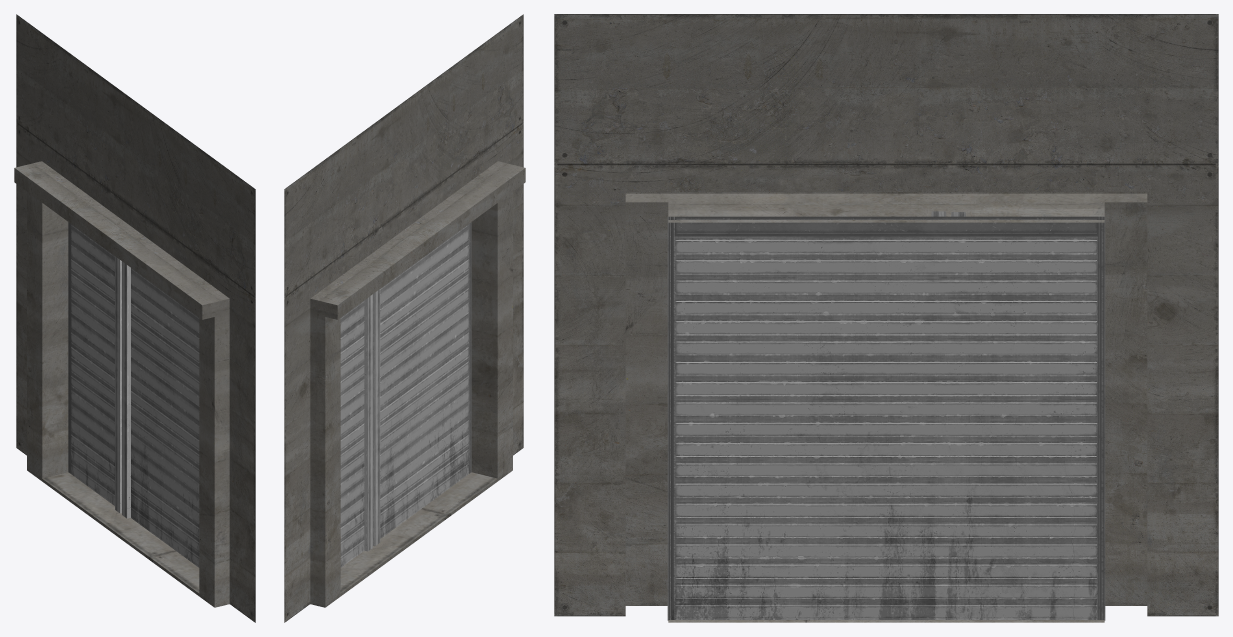
The model's file is CP_Wall_Roller_Shutters_02.fbx.
The picture shows the model from 3 angles, left to right: view 1: azimuth 30°, elevation 25°; view 2: azimuth 150°, elevation 25°; view 3: azimuth 270°, elevation 25°; orthographic projection. The views are drawn at different scales.
Parts seen in each view (by area): view 1: CP_Wall_Roller_Shutters_02; view 2: CP_Wall_Roller_Shutters_02; view 3: CP_Wall_Roller_Shutters_02.
Part boxes in pixels (box(x1,y1,x2,y2)): CP_Wall_Roller_Shutters_02: box(14, 14, 255, 622); CP_Wall_Roller_Shutters_02: box(284, 14, 525, 622); CP_Wall_Roller_Shutters_02: box(554, 14, 1218, 622).
Bounding box in the file's own units: 41.31 × 400 × 400.
